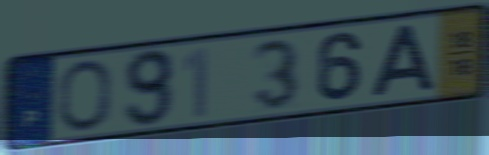1: (181, 45, 210, 121)
3: (250, 35, 303, 111)
6: (316, 30, 365, 104)
9: (121, 46, 176, 131)
A: (368, 21, 439, 100)
O: (56, 58, 114, 133)
